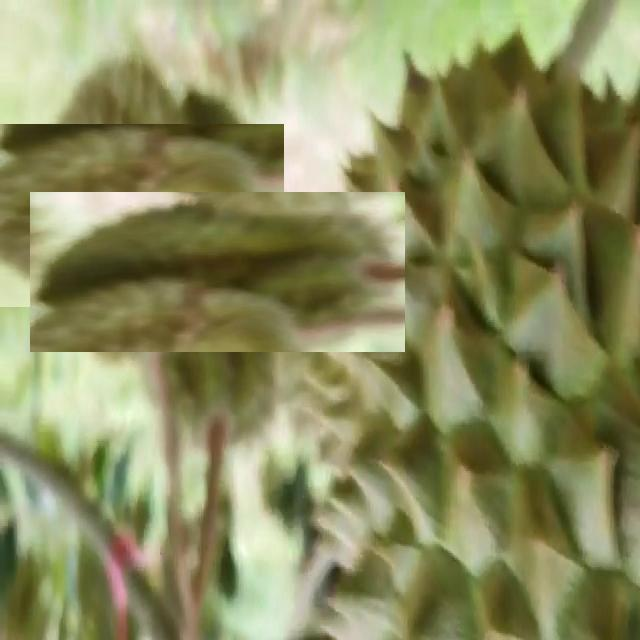durian: (83, 138, 351, 406), (0, 88, 248, 343)
